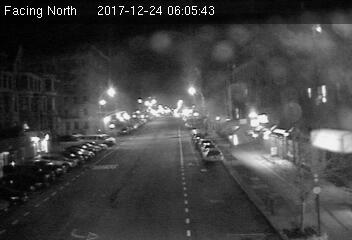car: (203, 148, 222, 163)
